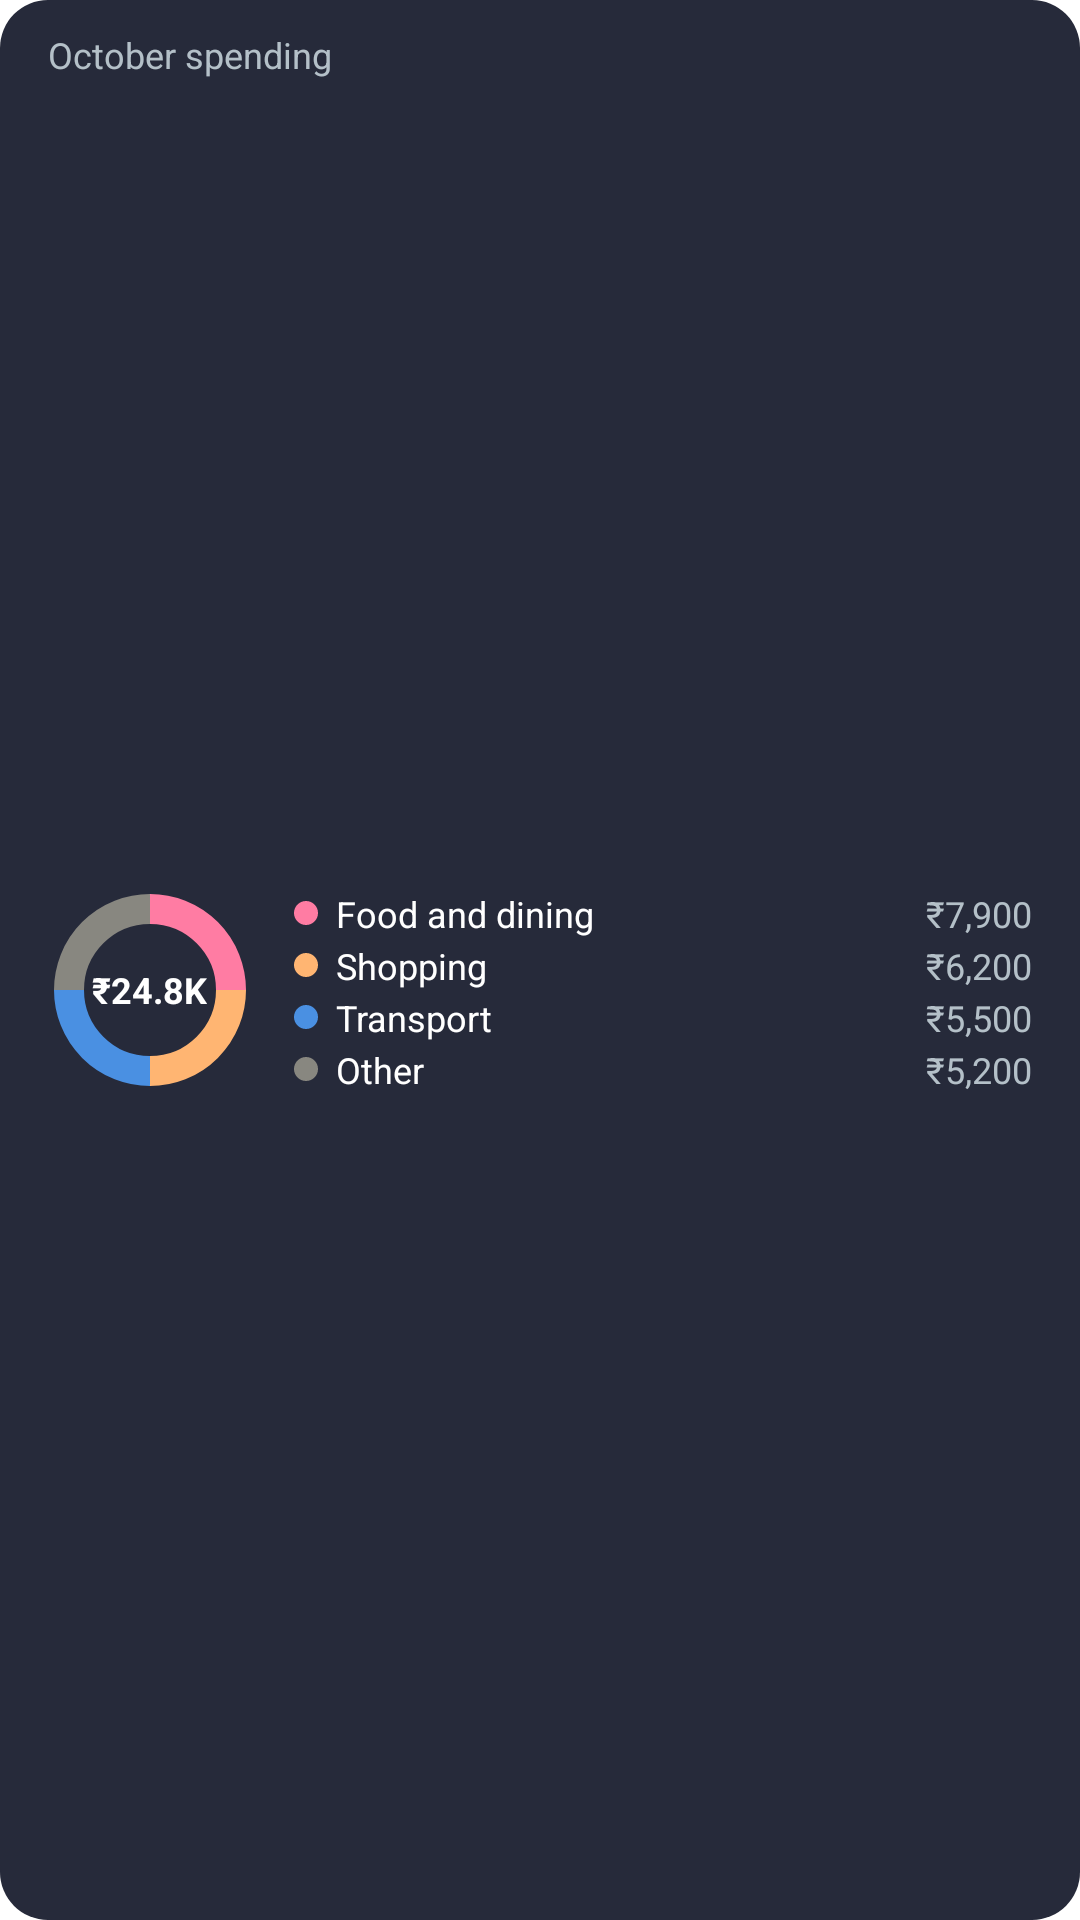

Icon bounding boxes for this 1080 x 1920 phone screenshot, format bbox(x1, y1, x2, y2):
widget donut: bbox(54, 894, 246, 1086)
